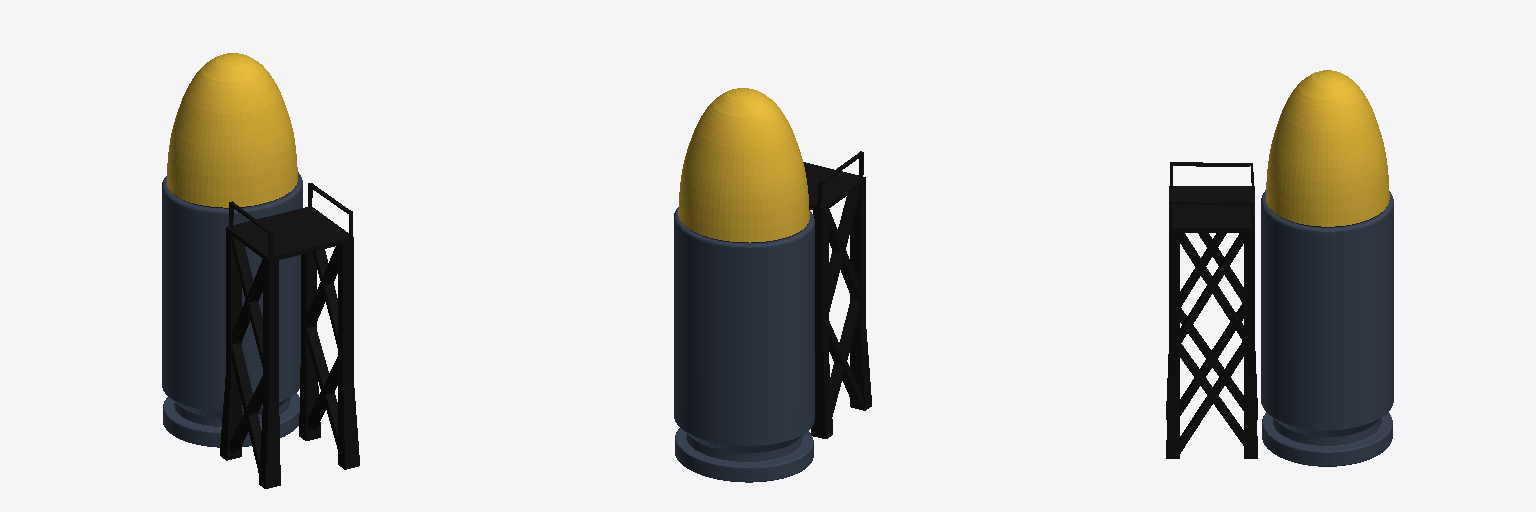
The model's file is spacebullet.obj.
3 renders of one model, left to right at view 1: azimuth 30°, elevation 25°; view 2: azimuth 150°, elevation 25°; view 3: azimuth 270°, elevation 25°, orthographic.
Parts seen in each view (by area): view 1: Bullet, mesh[number redacted], mesh[number redacted], mesh[number redacted], mesh[number redacted], mesh[number redacted], mesh[number redacted], mesh[number redacted], mesh[number redacted], mesh[number redacted]; view 2: Bullet, mesh[number redacted], mesh[number redacted], mesh[number redacted], mesh[number redacted], mesh[number redacted]; view 3: Bullet, mesh[number redacted], mesh[number redacted], mesh[number redacted], mesh[number redacted], mesh[number redacted], mesh[number redacted], mesh[number redacted], mesh[number redacted], mesh[number redacted].
Part boxes in pixels (left/top/right/bottom): Bullet: left=162, top=53, right=302, bottom=447; mesh[number redacted]: left=220, top=207, right=359, bottom=488; mesh[number redacted]: left=231, top=343, right=261, bottom=472; mesh[number redacted]: left=232, top=236, right=262, bottom=366; mesh[number redacted]: left=307, top=326, right=337, bottom=448; mesh[number redacted]: left=302, top=246, right=337, bottom=331; mesh[number redacted]: left=313, top=249, right=337, bottom=347; mesh[number redacted]: left=232, top=259, right=262, bottom=344; mesh[number redacted]: left=230, top=376, right=262, bottom=452; mesh[number redacted]: left=308, top=357, right=337, bottom=430; Bullet: left=674, top=88, right=814, bottom=482; mesh[number redacted]: left=803, top=162, right=871, bottom=438; mesh[number redacted]: left=829, top=187, right=859, bottom=311; mesh[number redacted]: left=830, top=298, right=859, bottom=416; mesh[number redacted]: left=829, top=321, right=862, bottom=408; mesh[number redacted]: left=829, top=209, right=860, bottom=298; Bullet: left=1261, top=70, right=1393, bottom=466; mesh[number redacted]: left=1166, top=186, right=1257, bottom=458; mesh[number redacted]: left=1180, top=341, right=1243, bottom=453; mesh[number redacted]: left=1180, top=233, right=1243, bottom=344; mesh[number redacted]: left=1180, top=233, right=1243, bottom=341; mesh[number redacted]: left=1180, top=344, right=1243, bottom=445; mesh[number redacted]: left=1180, top=303, right=1243, bottom=415; mesh[number redacted]: left=1180, top=308, right=1243, bottom=410; mesh[number redacted]: left=1198, top=233, right=1243, bottom=304; mesh[number redacted]: left=1180, top=233, right=1226, bottom=307.
Size of the model in its own units: 3.7 by 10.32 by 5.87.